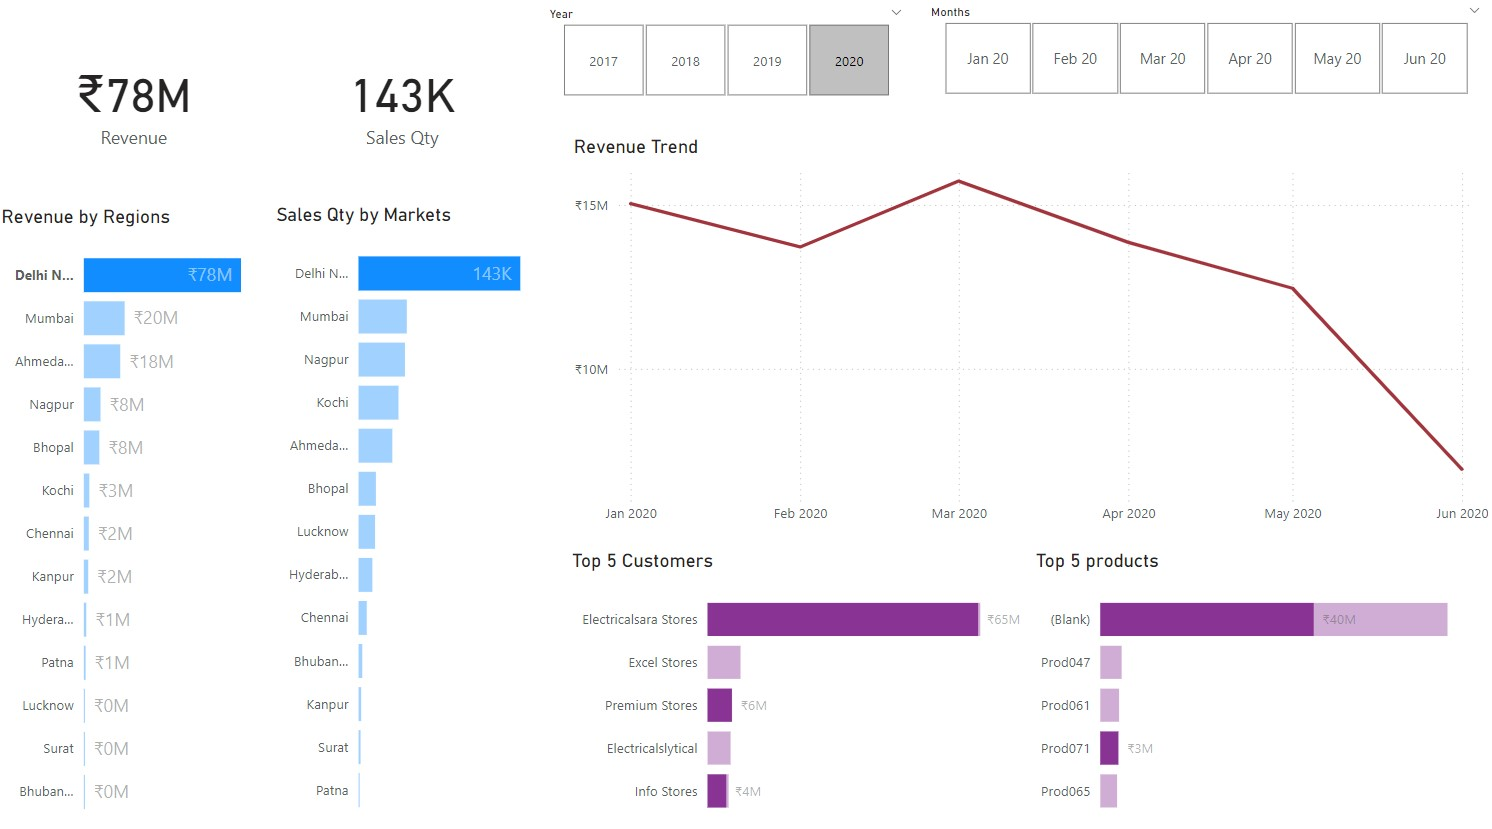

The page's visual inventory and layout, read from the dashboard file:
{"tool":"powerbi","page":{"name":"Initial insight","canvas":[1350,750],"ordinal":0},"visuals":[{"type":"card","fields":{"Values":["BaseMeasures.Revenue"]},"box":[0,0,248.1,186.1],"z":0},{"type":"card","fields":{"Values":["BaseMeasures.Sales Qty"]},"box":[248.1,0,236.7,186.1],"z":1000},{"type":"barChart","title":"Revenue by Regions","fields":{"Y":["BaseMeasures.Revenue"],"Category":["sales markets.markets_name"]},"box":[0,186.1,264.6,564.6],"z":2000},{"type":"barChart","title":"Sales Qty by Markets","fields":{"Y":["BaseMeasures.Sales Qty"],"Category":["sales markets.markets_name"]},"box":[248.1,184.8,265.9,564.6],"z":3000},{"type":"slicer","fields":{"Values":["sales date.year"]},"box":[486.1,1.3,343.1,92.4],"z":4000},{"type":"slicer","fields":{"Values":["sales date.cy_date"]},"box":[829.2,0,520.3,92.4],"z":5000},{"type":"barChart","title":"Top 5 Customers","fields":{"Y":["BaseMeasures.Revenue"],"Category":["sales customers.custmer_name"]},"box":[514,496.3,417.8,253.2],"z":6000},{"type":"lineChart","title":"Revenue Trend","fields":{"Y":["BaseMeasures.Revenue"],"Category":["sales date.cy_date.Variation.Date Hierarchy.Year","sales date.cy_date.Variation.Date Hierarchy.Quarter","sales date.cy_date.Variation.Date Hierarchy.Month","sales date.cy_date.Variation.Date Hierarchy.Day"]},"box":[515.3,122.8,834.3,358.3],"z":7000},{"type":"barChart","title":"Top 5 products","fields":{"Y":["BaseMeasures.Revenue"],"Category":["sales products.product_code"]},"box":[931.8,496.3,417.8,253.2],"z":8000}]}

Visuals, with their boxes in screenshot pixels (x1, y1, x2, y2), scaled from the page's 1350x750 canvas onto the 1492x829 screenshot:
card - BaseMeasures.Revenue: Rect(0, 0, 274, 206)
card - BaseMeasures.Sales Qty: Rect(274, 0, 536, 206)
"Revenue by Regions" barChart: Rect(0, 206, 292, 828)
"Sales Qty by Markets" barChart: Rect(274, 204, 568, 828)
slicer - sales date.year: Rect(537, 1, 916, 104)
slicer - sales date.cy_date: Rect(916, 0, 1491, 102)
"Top 5 Customers" barChart: Rect(568, 549, 1030, 828)
"Revenue Trend" lineChart: Rect(570, 136, 1491, 532)
"Top 5 products" barChart: Rect(1030, 549, 1491, 828)
